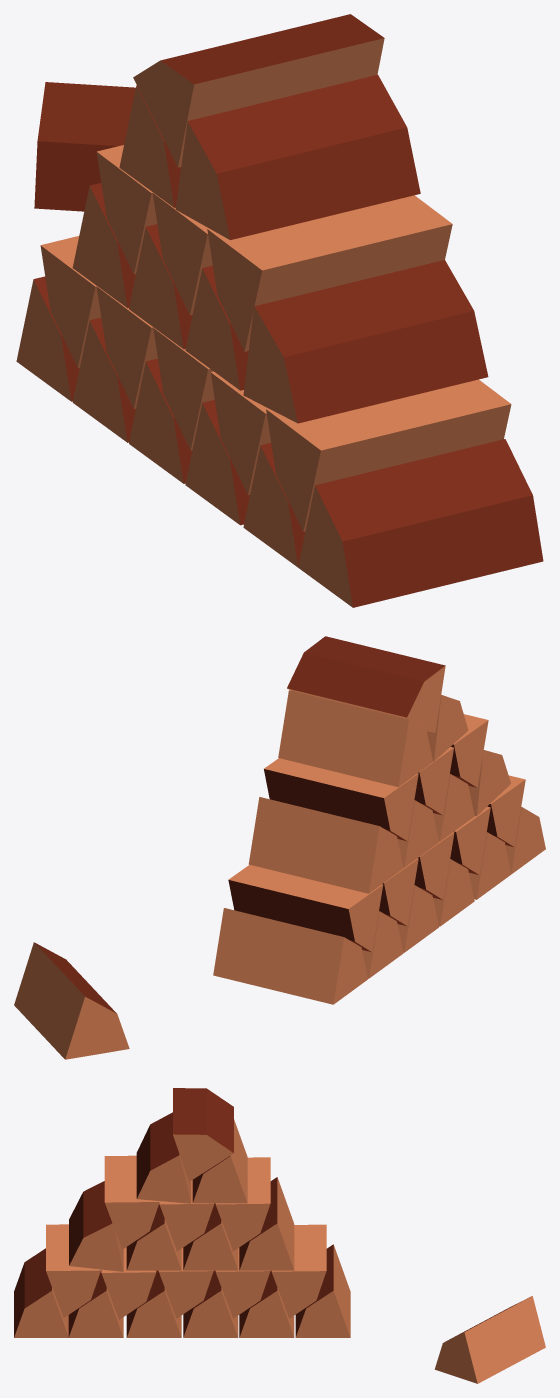
Rendered from logs.glb.
3 renders of one model, top to bottom at view 1: azimuth 30°, elevation 25°; view 2: azimuth 150°, elevation 25°; view 3: azimuth 270°, elevation 25°, orthographic. The views are drawn at different scales.
Visible parts, largest first — view 1: Cylinder.009, Cylinder.021, Cylinder.016, Cylinder.019, Cylinder.022, Cylinder.012, Cylinder.010, Cylinder.006, Cylinder.003, Cylinder.002, Cylinder.015, Cylinder.005 (+10 smaller); view 2: Cylinder.005, Cylinder.013, Cylinder.020, Cylinder.022, Cylinder.010, Cylinder.006, Cylinder.017, Cylinder.019, Cylinder.012, Cylinder.011, Cylinder.007, Cylinder.018 (+10 smaller); view 3: Cylinder.010, Cylinder.022, Cylinder.021, Cylinder.016, Cylinder.009, Cylinder.019, Cylinder.006, Cylinder.013, Cylinder.005, Cylinder.012, Cylinder.017, Cylinder.020 (+10 smaller).
Part boxes in pixels (left/top/right/bottom): Cylinder.009: left=298, top=439, right=543, bottom=607; Cylinder.021: left=175, top=74, right=420, bottom=240; Cylinder.016: left=243, top=260, right=488, bottom=423; Cylinder.019: left=207, top=195, right=452, bottom=351; Cylinder.022: left=133, top=14, right=384, bottom=167; Cylinder.012: left=266, top=379, right=511, bottom=531; Cylinder.010: left=34, top=82, right=135, bottom=211; Cylinder.006: left=40, top=236, right=101, bottom=367; Cylinder.003: left=185, top=399, right=249, bottom=525; Cylinder.002: left=129, top=358, right=192, bottom=483; Cylinder.015: left=185, top=265, right=248, bottom=390; Cylinder.005: left=16, top=276, right=79, bottom=401; Cylinder.005: left=213, top=908, right=367, bottom=1004; Cylinder.013: left=248, top=797, right=403, bottom=893; Cylinder.020: left=278, top=690, right=432, bottom=787; Cylinder.022: left=287, top=636, right=445, bottom=732; Cylinder.010: left=14, top=942, right=129, bottom=1059; Cylinder.006: left=228, top=864, right=383, bottom=951; Cylinder.017: left=264, top=758, right=418, bottom=841; Cylinder.019: left=450, top=714, right=488, bottom=787; Cylinder.012: left=487, top=775, right=525, bottom=846; Cylinder.011: left=450, top=806, right=490, bottom=874; Cylinder.007: left=414, top=832, right=454, bottom=899; Cylinder.018: left=414, top=747, right=453, bottom=815; Cylinder.010: left=434, top=1296, right=545, bottom=1383; Cylinder.022: left=173, top=1088, right=233, bottom=1181; Cylinder.021: left=136, top=1112, right=191, bottom=1203; Cylinder.016: left=69, top=1181, right=123, bottom=1271; Cylinder.009: left=14, top=1248, right=68, bottom=1337; Cylinder.019: left=104, top=1155, right=159, bottom=1249; Cylinder.006: left=271, top=1224, right=326, bottom=1318; Cylinder.013: left=239, top=1177, right=294, bottom=1270; Cylinder.005: left=295, top=1244, right=350, bottom=1337; Cylinder.012: left=46, top=1224, right=100, bottom=1317; Cylinder.017: left=215, top=1157, right=270, bottom=1251; Cylinder.020: left=192, top=1119, right=247, bottom=1203.
Size of the model in its own units: 0.5903 by 0.6065 by 1.44.
